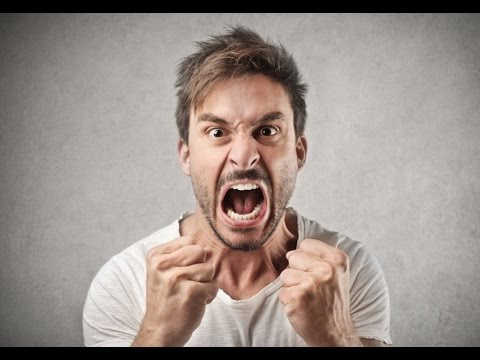angry: (187, 95, 299, 248)
